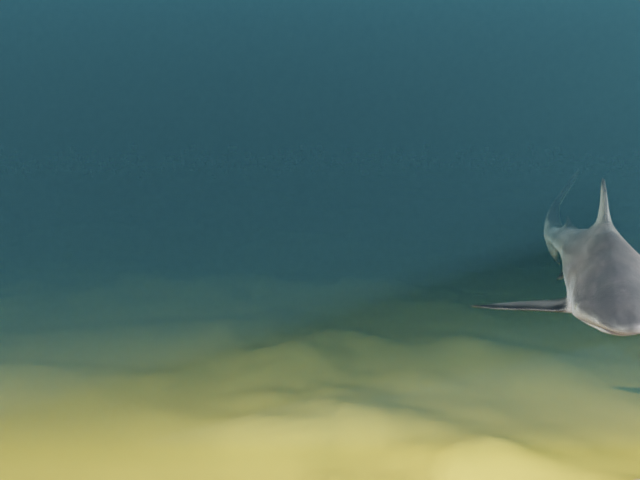Carribean Shark.001: (469, 169, 640, 335)
